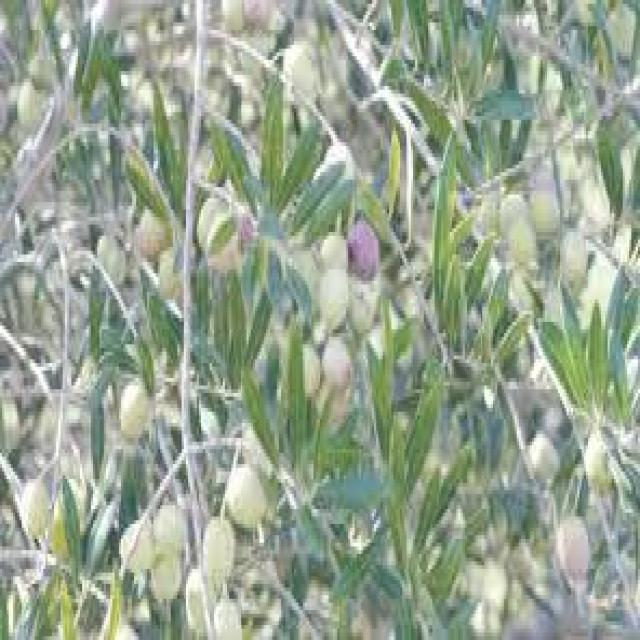Healthy: (225, 464, 266, 528)
